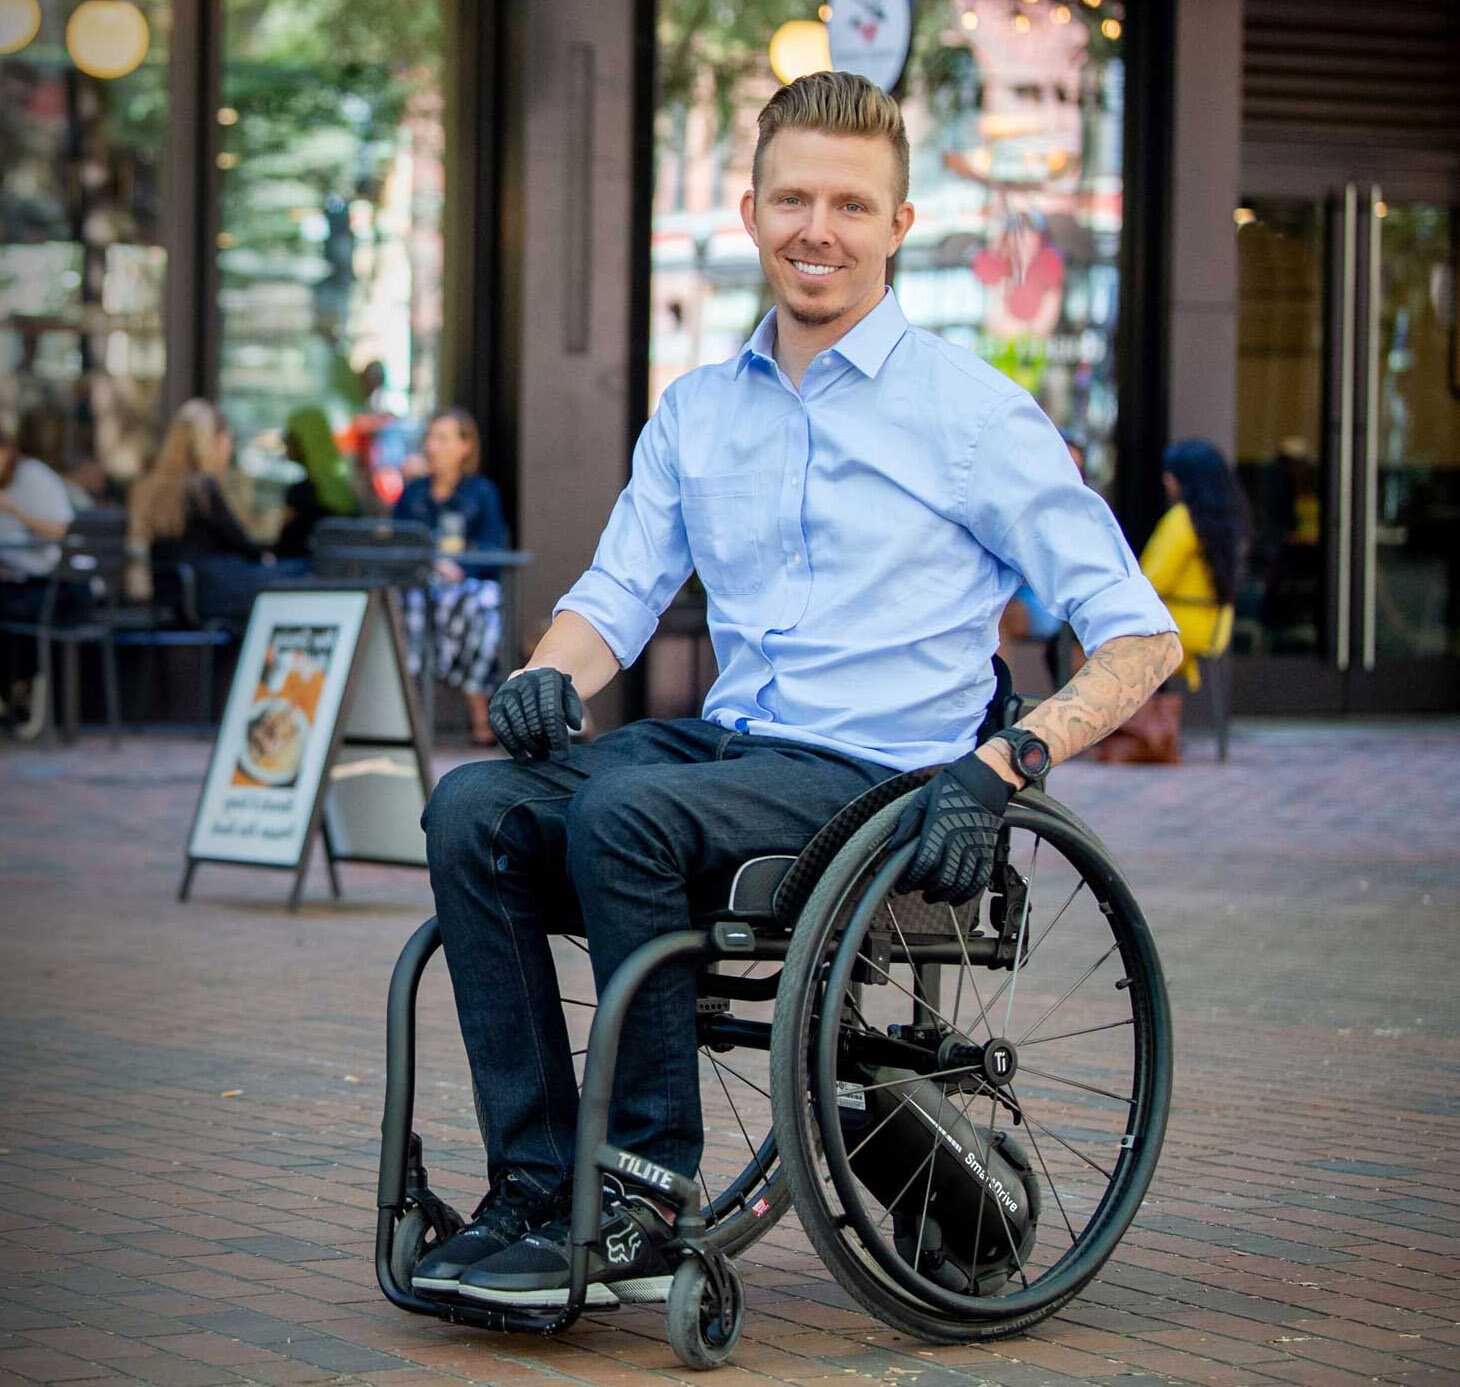wheelchair: (369, 72, 1175, 1360)
